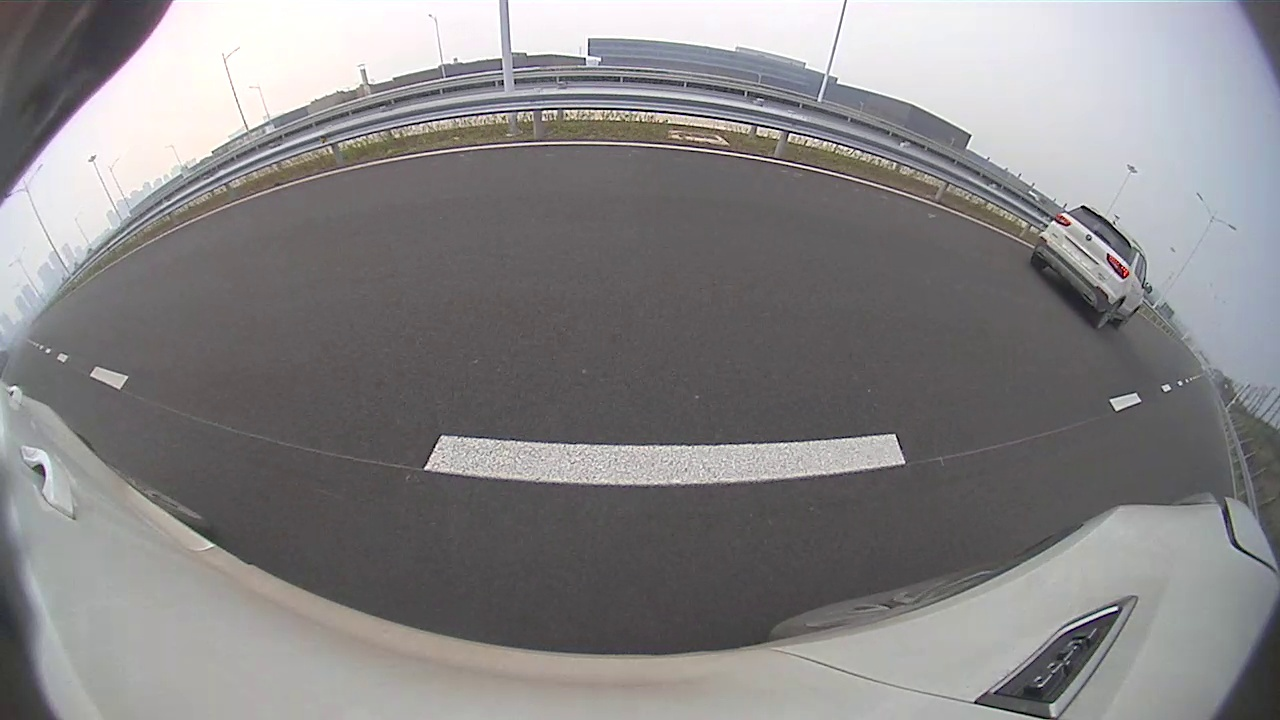car: (1031, 204, 1153, 331)
